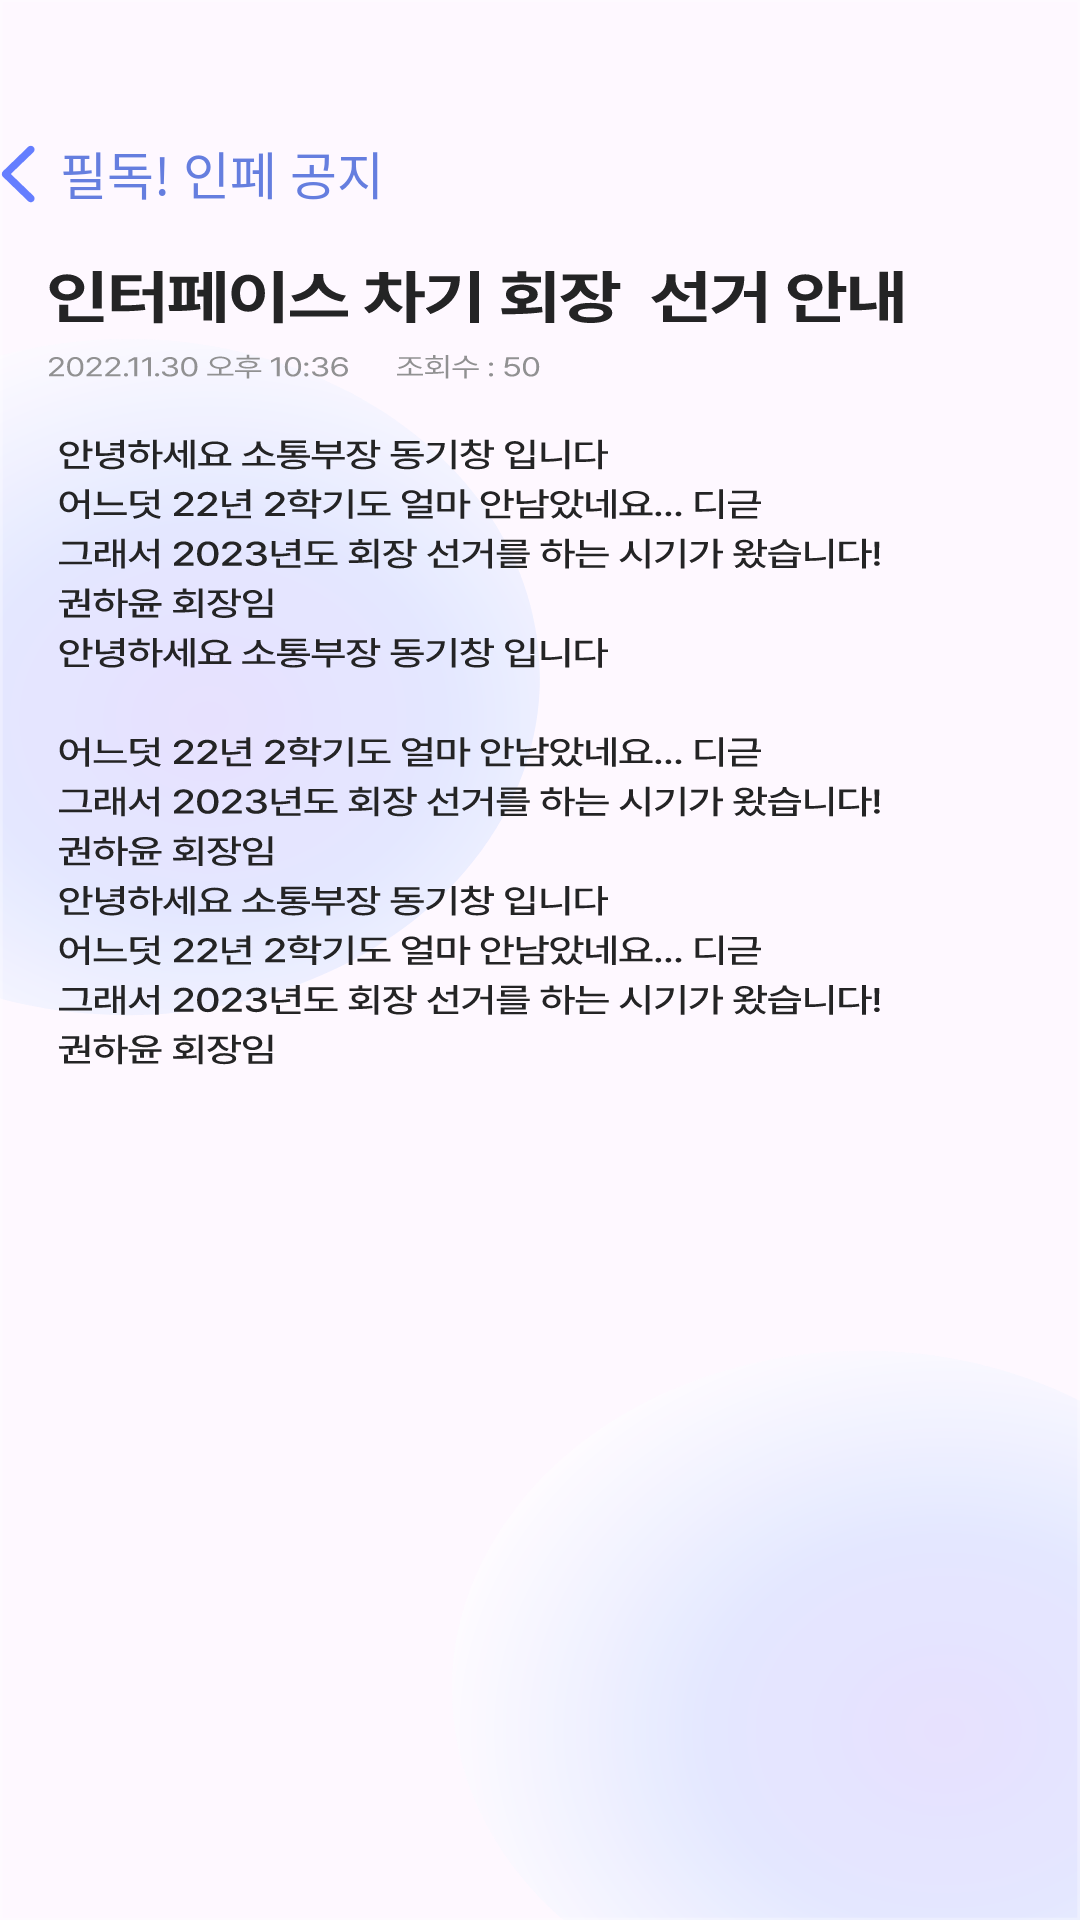

Where to tap for icons on this 1080x1920 app screen, as [x,y]:
chevron: [18,174]
